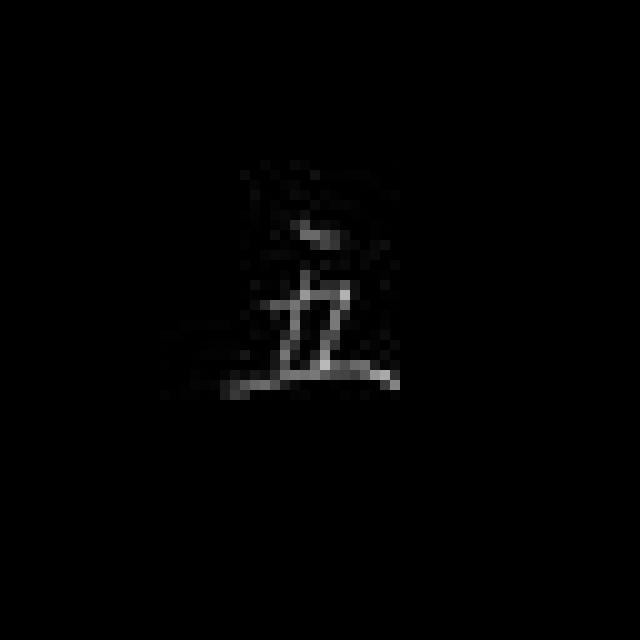5 -five-: (220, 204, 408, 408)
